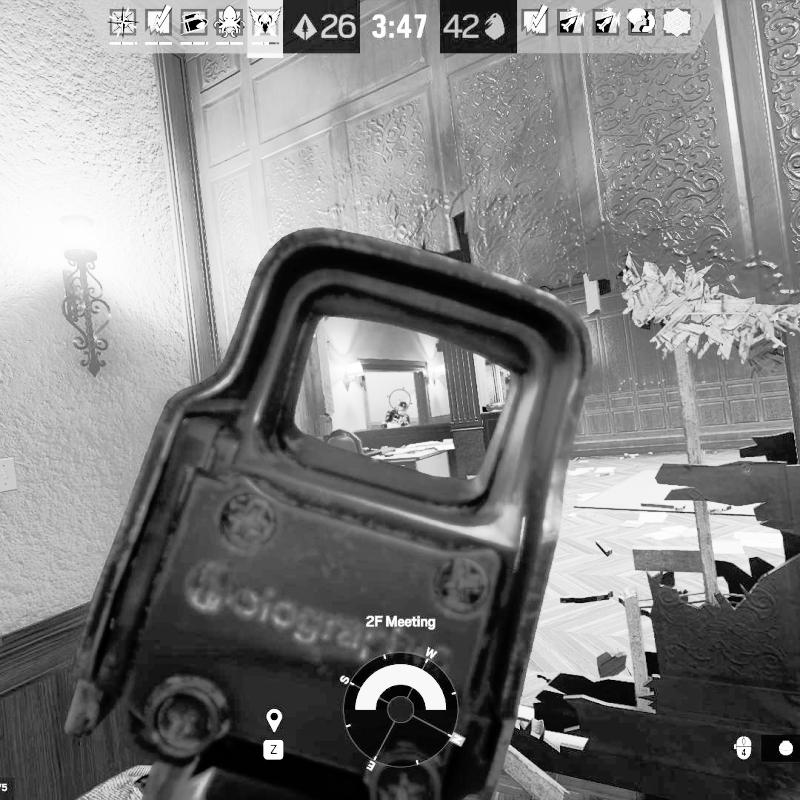Character: (382, 399, 412, 430)
Head: (396, 401, 408, 412)
